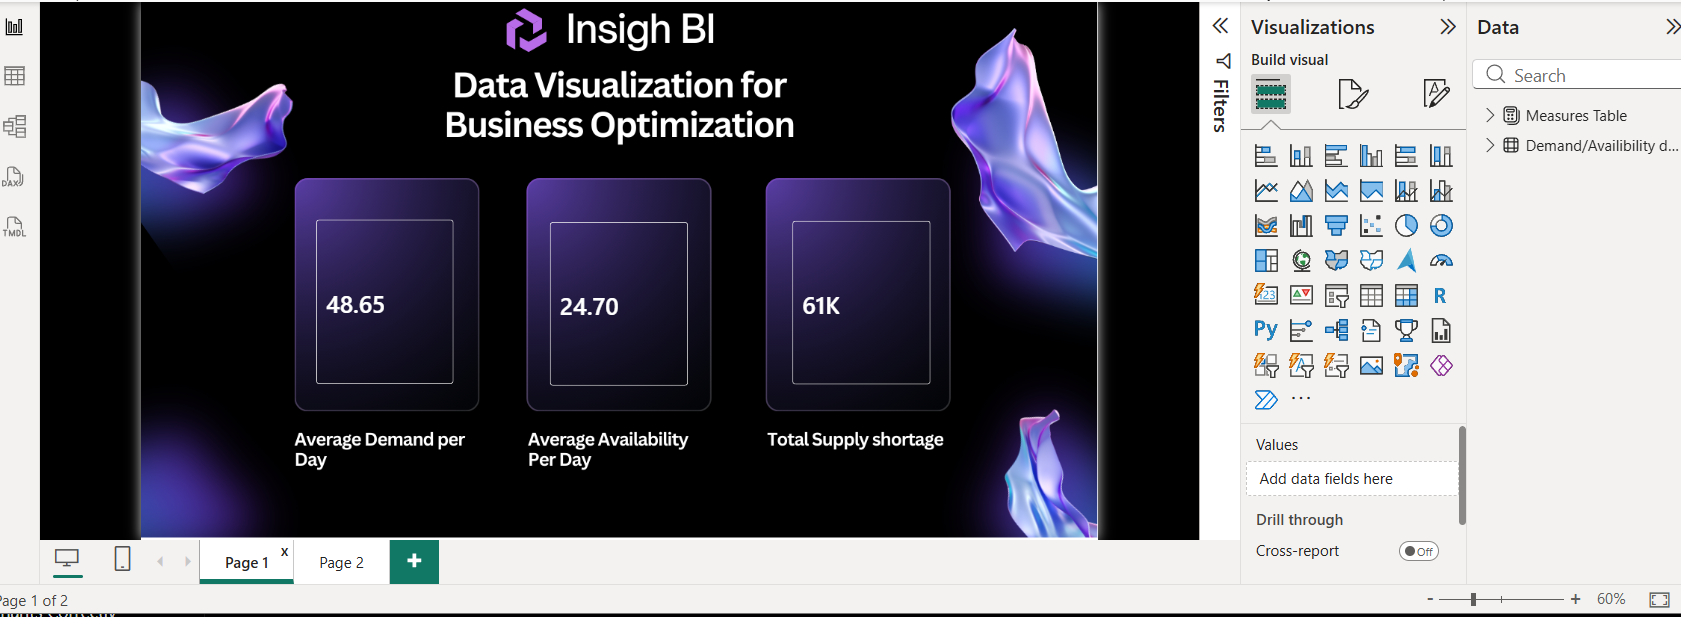

Layout of this report page (visuals, bound fields, positions):
{"tool":"powerbi","page":{"name":"Page 1","canvas":[1280,720],"ordinal":0},"visuals":[{"type":"cardVisual","fields":{"Data":["Measures Table.Average Demand Per Day"]},"box":[217.2,275.1,218.4,254.6],"z":0},{"type":"cardVisual","fields":{"Data":["Measures Table.Average Availability Per Day"]},"box":[529.7,277.2,219.6,253.9],"z":1000},{"type":"cardVisual","fields":{"Data":["Measures Table.Total Supply Shortage"]},"box":[855.4,276.3,219.6,253.4],"z":2000}]}

Visuals, with their boxes on the page's 1280x720 design canvas (x1, y1, x2, y2). These are canvas units, not pixel positions in the 1681x617 screenshot, which may show the page scaled, cropped or inside an application window:
cardVisual - Measures Table.Average Demand Per Day: bbox(217, 275, 436, 530)
cardVisual - Measures Table.Average Availability Per Day: bbox(530, 277, 749, 531)
cardVisual - Measures Table.Total Supply Shortage: bbox(855, 276, 1075, 530)
